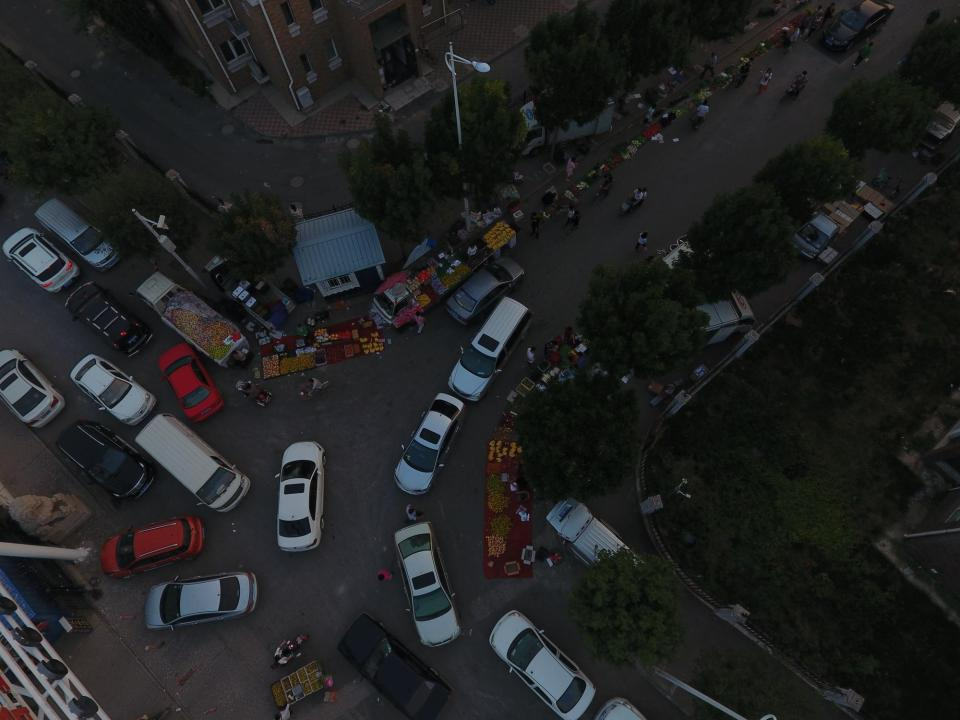car: (335, 611, 454, 720), (488, 609, 596, 720), (392, 521, 461, 648), (54, 417, 157, 502), (393, 392, 468, 496), (100, 514, 206, 580), (63, 281, 153, 357), (145, 571, 258, 631), (69, 353, 157, 426), (274, 440, 328, 553), (443, 256, 526, 324), (2, 226, 82, 295), (157, 342, 223, 424), (1, 348, 66, 429), (820, 0, 895, 54), (592, 695, 647, 720)
truck: (136, 271, 250, 369), (510, 81, 615, 158), (201, 248, 297, 332), (372, 253, 474, 328), (652, 288, 756, 354)
van: (134, 413, 250, 513), (545, 494, 652, 594), (447, 294, 535, 405), (33, 197, 126, 272), (789, 213, 841, 262), (915, 94, 960, 150)
